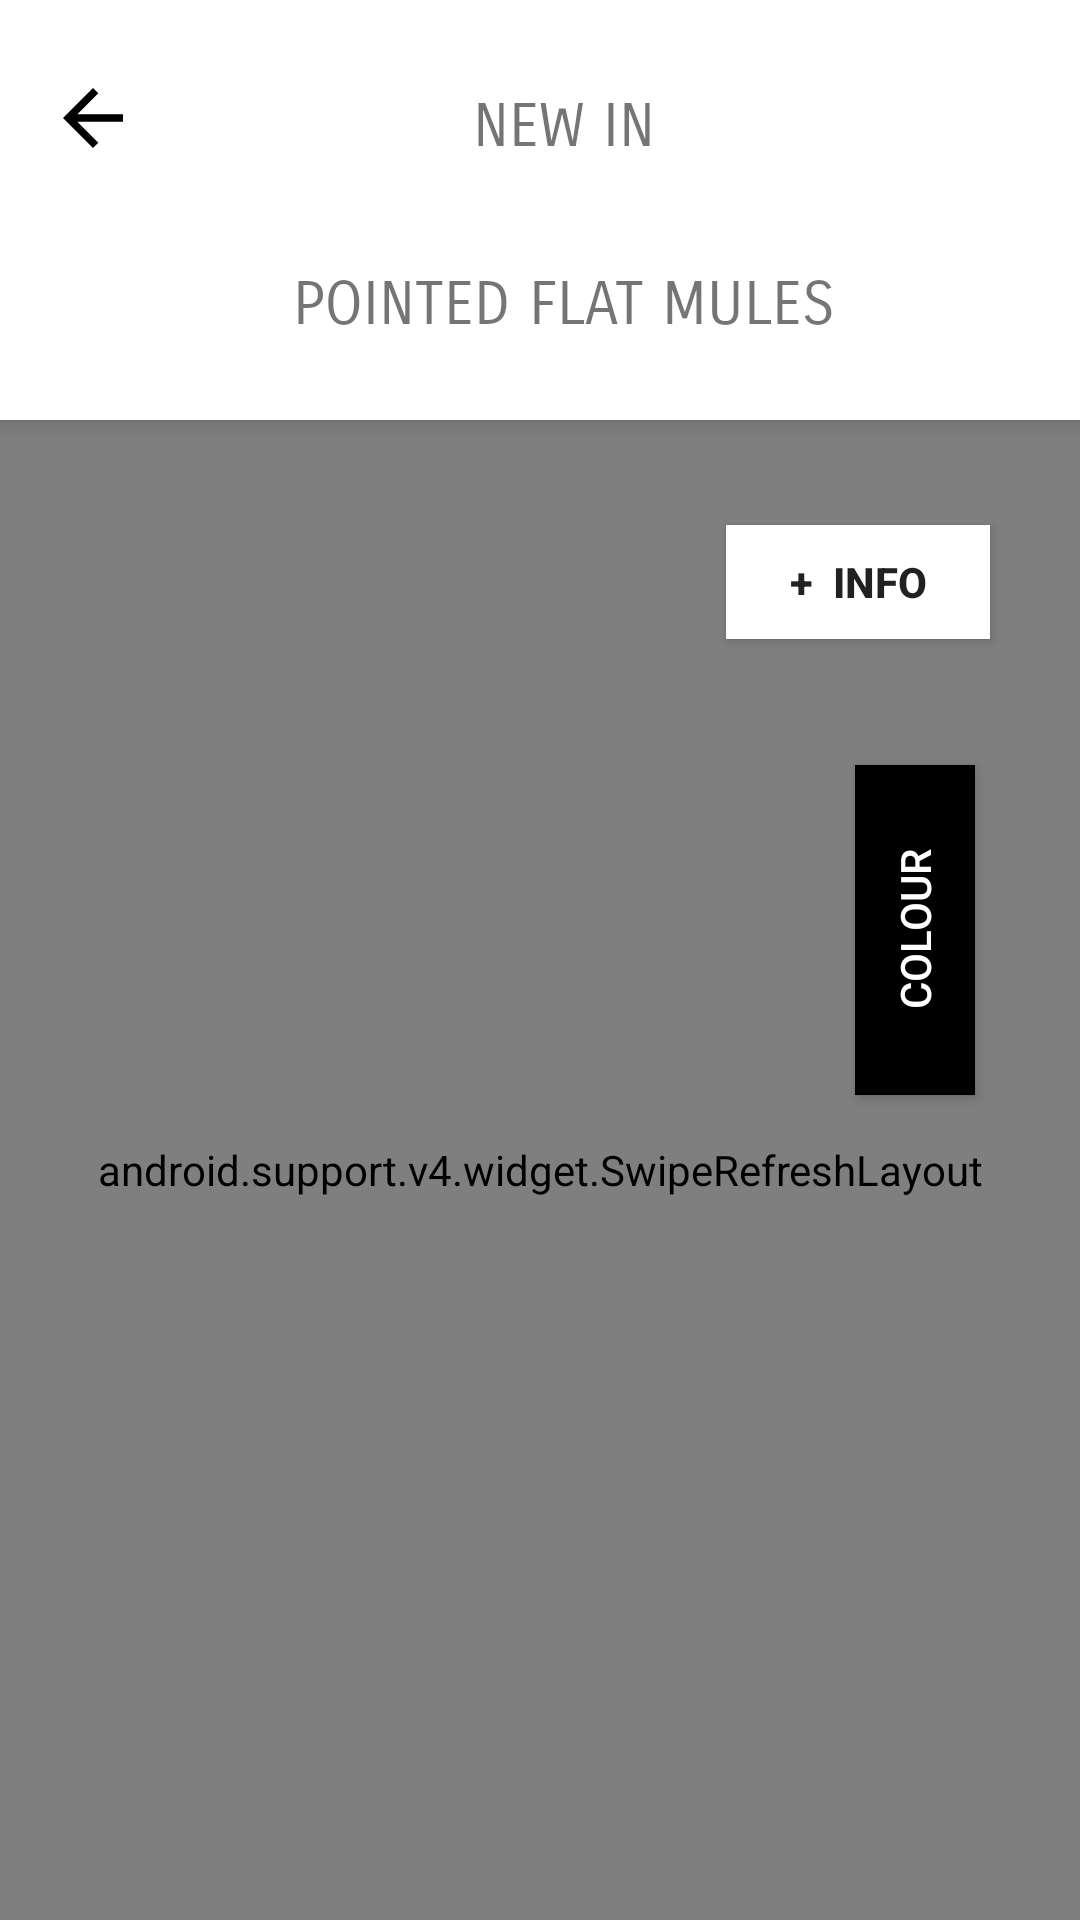

Named icons in this screenshot (1080 x 1920) and their centers, (x=x, y=y):
arrow back: (x=93, y=118)
